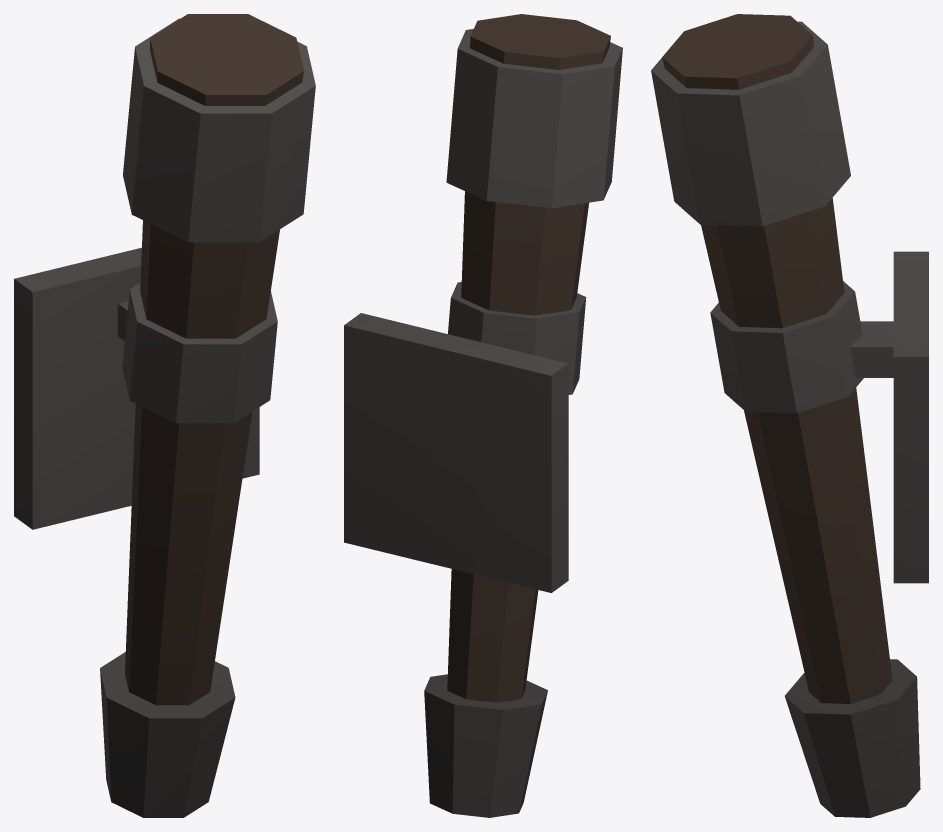
Rendered from Torch.fbx.
3 views of the same model, side by side, from view 1: azimuth 30°, elevation 25°; view 2: azimuth 150°, elevation 25°; view 3: azimuth 270°, elevation 25° (orthographic). The views are drawn at different scales.
Visible parts, largest first — view 1: Cylinder, Cube.001; view 2: Cylinder, Cube.001; view 3: Cylinder, Cube.001.
Boxes of the visible parts, <box> form: Cylinder: <box>100,14,315,817</box>; Cube.001: <box>14,247,259,529</box>; Cylinder: <box>424,14,622,817</box>; Cube.001: <box>344,313,568,592</box>; Cylinder: <box>651,14,920,817</box>; Cube.001: <box>850,251,928,583</box>.
Size of the model in its own units: 65.56 by 223 by 73.
1 material, 1 textured.
